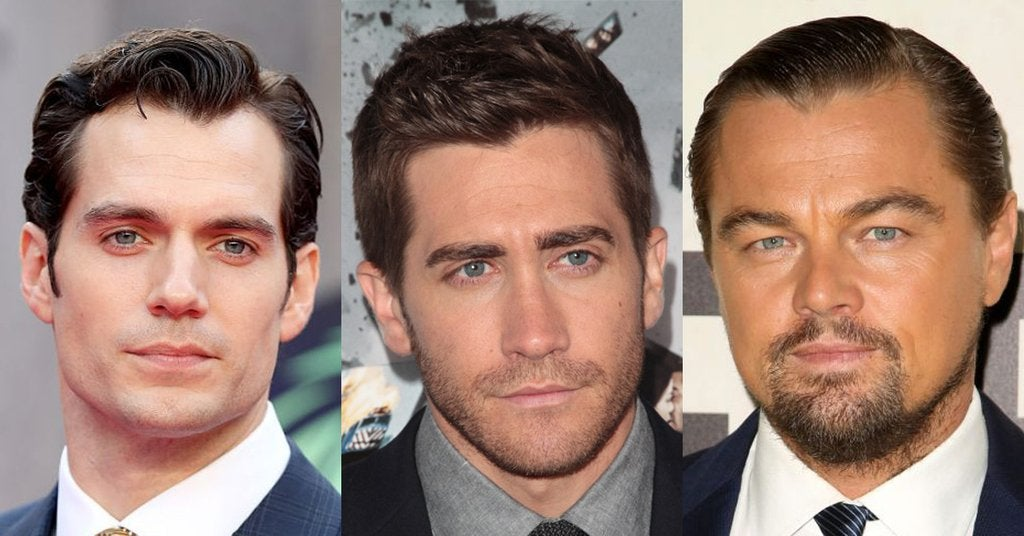man: (687, 17, 1018, 464), (350, 21, 667, 478), (20, 28, 320, 438)
